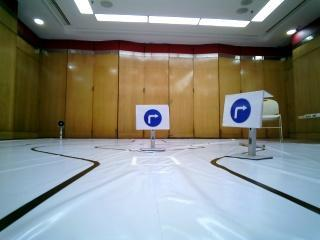right: (223, 95, 262, 127), (137, 105, 172, 129)
